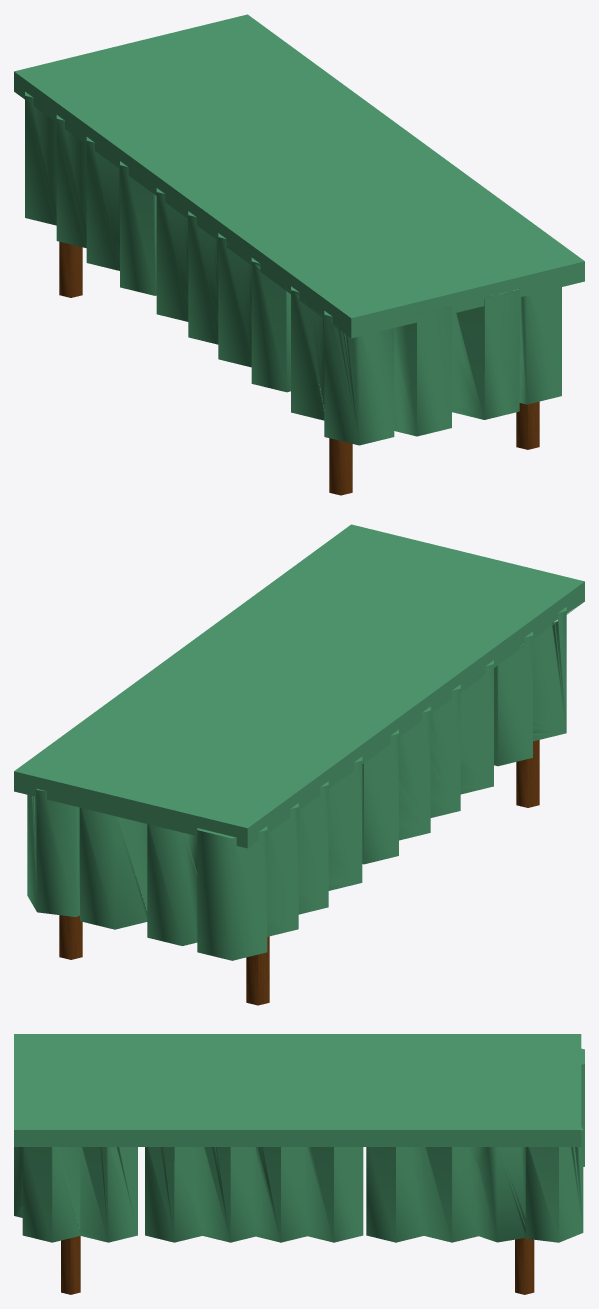
File: table.gltf
3 renders of one model, top to bottom at view 1: azimuth 30°, elevation 25°; view 2: azimuth 150°, elevation 25°; view 3: azimuth 270°, elevation 25°, orthographic. The views are drawn at different scales.
Parts seen in each view (by area): view 1: CSGCombiner3D2; view 2: CSGCombiner3D2; view 3: CSGCombiner3D2.
Boxes of the visible parts, x1=… form: CSGCombiner3D2: x1=14, y1=14, x2=584, y2=495; CSGCombiner3D2: x1=14, y1=524, x2=584, y2=1005; CSGCombiner3D2: x1=14, y1=1034, x2=584, y2=1294.
Size of the model in its own units: 2.04 by 1.65 by 5.03.
Materials: 3 (1 with a texture image).
